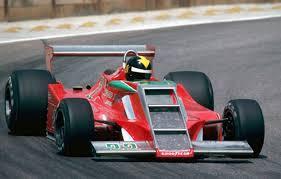f1_car: (1, 38, 274, 170)
